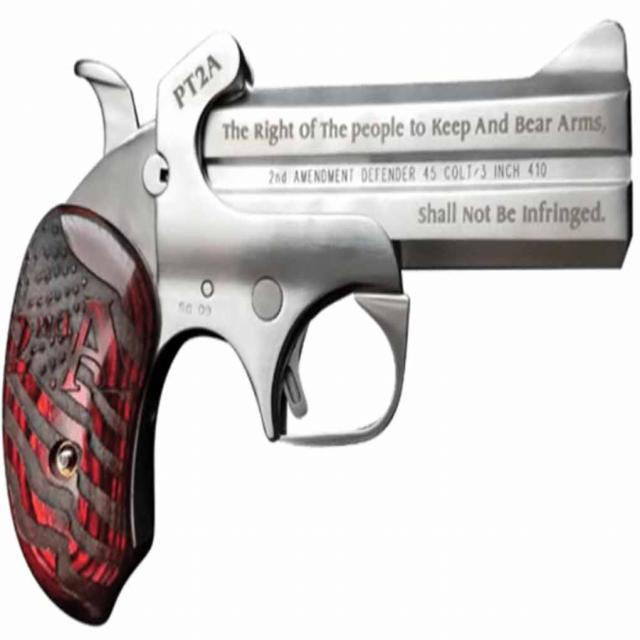gun: (4, 14, 632, 606)
